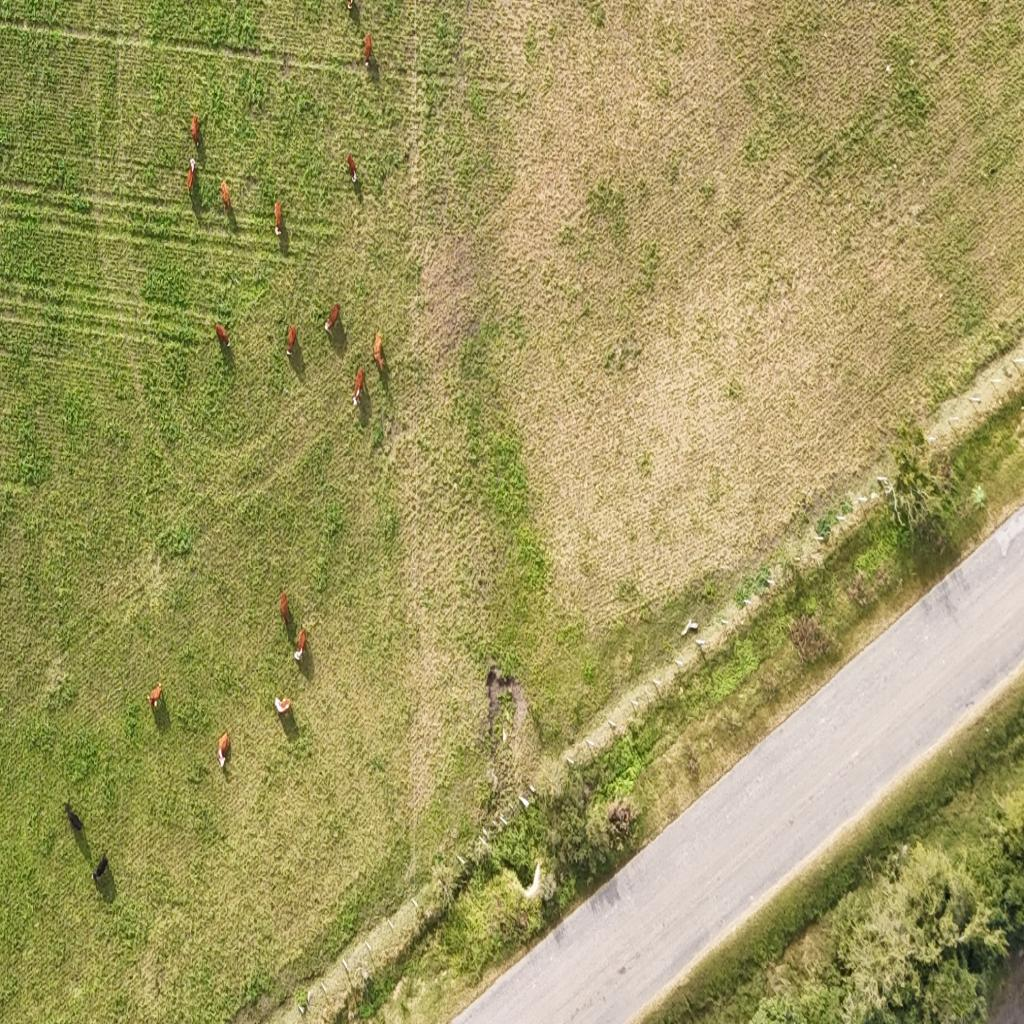cow: (64, 801, 85, 832), (90, 854, 110, 882), (217, 732, 231, 770), (373, 332, 385, 376), (325, 302, 340, 336), (272, 696, 294, 718), (352, 368, 364, 406), (214, 322, 230, 350), (361, 34, 374, 67), (148, 682, 163, 710), (220, 179, 232, 213), (294, 627, 306, 660), (279, 591, 289, 629), (286, 324, 297, 358), (186, 160, 196, 195), (274, 200, 282, 238), (347, 154, 357, 184), (190, 114, 199, 147), (346, 0, 354, 12)
